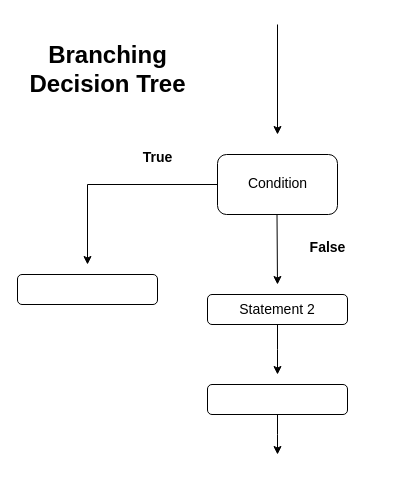
Image size: 395x480. Some labels were removed from this diagram. Here are the shapes that lost their labels. From the top down, the centre of each, then its label:
the point at 87,289: Statement 1
the point at 277,399: Statement 3
